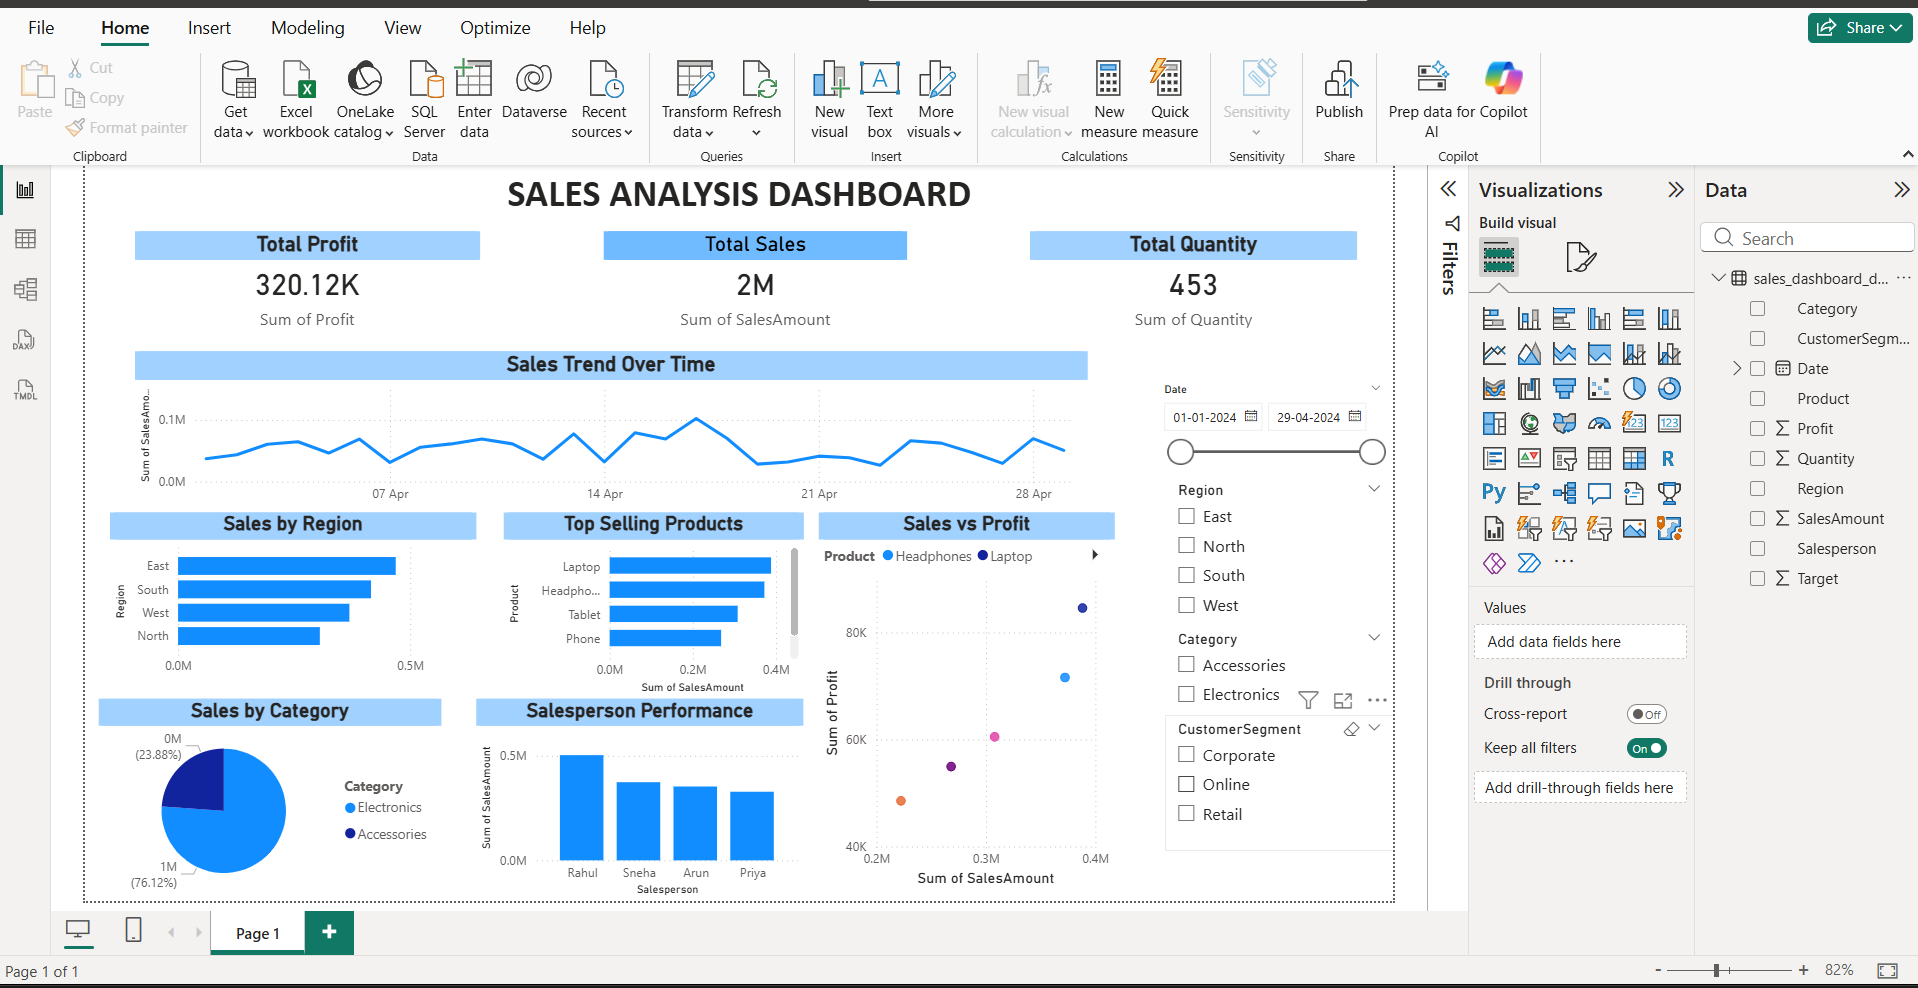

Layout of this report page (visuals, bound fields, positions):
{"tool":"powerbi","page":{"name":"Page 1","canvas":[1280,720],"ordinal":0},"visuals":[{"type":"textbox","box":[0,0,1280.3,77],"z":0},{"type":"card","title":"Total Sales","fields":{"Values":["Sum(sales_dashboard_dataset.SalesAmount)"]},"box":[507.5,64.8,297.1,99],"z":1000},{"type":"card","title":"Total Profit","fields":{"Values":["Sum(sales_dashboard_dataset.Profit)"]},"box":[48.9,64.8,337.5,99],"z":2000},{"type":"card","title":"Total Quantity","fields":{"Values":["Sum(sales_dashboard_dataset.Quantity)"]},"box":[924.5,64.8,320.4,99],"z":3000},{"type":"lineChart","title":"Sales Trend Over Time","fields":{"Category":["sales_dashboard_dataset.Date.Variation.Date Hierarchy.Year","sales_dashboard_dataset.Date.Variation.Date Hierarchy.Quarter","sales_dashboard_dataset.Date.Variation.Date Hierarchy.Month","sales_dashboard_dataset.Date.Variation.Date Hierarchy.Day"],"Y":["Sum(sales_dashboard_dataset.SalesAmount)"]},"box":[48.9,182.2,931.8,157.7],"z":4000},{"type":"clusteredBarChart","title":"Sales by Region","fields":{"Category":["sales_dashboard_dataset.Region"],"Y":["Sum(sales_dashboard_dataset.SalesAmount)"]},"box":[24.5,339.9,358.3,168.8],"z":5000},{"type":"clusteredBarChart","title":"Top Selling Products","fields":{"Category":["sales_dashboard_dataset.Product"],"Y":["Sum(sales_dashboard_dataset.SalesAmount)"]},"box":[409.6,339.9,293.5,182.2],"z":5001},{"type":"pieChart","title":"Sales by Category","fields":{"Category":["sales_dashboard_dataset.Category"],"Y":["Sum(sales_dashboard_dataset.SalesAmount)"]},"box":[13.5,522.1,335.1,198.1],"z":5002},{"type":"clusteredColumnChart","title":"Salesperson Performance","fields":{"Category":["sales_dashboard_dataset.Salesperson"],"Y":["Sum(sales_dashboard_dataset.SalesAmount)"]},"box":[382.7,522.1,320.4,198.1],"z":5003},{"type":"scatterChart","title":"Sales vs Profit","fields":{"X":["Sum(sales_dashboard_dataset.SalesAmount)"],"Y":["Sum(sales_dashboard_dataset.Profit)"],"Series":["sales_dashboard_dataset.Product"]},"box":[717.8,339.9,289.8,370.5],"z":5004},{"type":"slicer","fields":{"Values":["sales_dashboard_dataset.Date"]},"box":[1043.1,207.9,237.2,96.6],"z":5005},{"type":"slicer","fields":{"Values":["sales_dashboard_dataset.Region"]},"box":[1056.5,304.5,223.8,144.3],"z":5006},{"type":"slicer","fields":{"Values":["sales_dashboard_dataset.Category"]},"box":[1056.5,450,223.8,88],"z":5007},{"type":"slicer","fields":{"Values":["sales_dashboard_dataset.CustomerSegment"]},"box":[1056.5,538,223.8,133.3],"z":5008}]}

Visuals, with their boxes on the page's 1280x720 design canvas (x1, y1, x2, y2). These are canvas units, not pixel positions in the 1918x988 screenshot, which may show the page scaled, cropped or inside an application window:
textbox: bbox=[0, 0, 1280, 77]
"Total Sales" card: bbox=[508, 65, 805, 164]
"Total Profit" card: bbox=[49, 65, 386, 164]
"Total Quantity" card: bbox=[924, 65, 1245, 164]
"Sales Trend Over Time" lineChart: bbox=[49, 182, 981, 340]
"Sales by Region" clusteredBarChart: bbox=[24, 340, 383, 509]
"Top Selling Products" clusteredBarChart: bbox=[410, 340, 703, 522]
"Sales by Category" pieChart: bbox=[14, 522, 349, 720]
"Salesperson Performance" clusteredColumnChart: bbox=[383, 522, 703, 720]
"Sales vs Profit" scatterChart: bbox=[718, 340, 1008, 710]
slicer - sales_dashboard_dataset.Date: bbox=[1043, 208, 1280, 304]
slicer - sales_dashboard_dataset.Region: bbox=[1056, 304, 1280, 449]
slicer - sales_dashboard_dataset.Category: bbox=[1056, 450, 1280, 538]
slicer - sales_dashboard_dataset.CustomerSegment: bbox=[1056, 538, 1280, 671]
